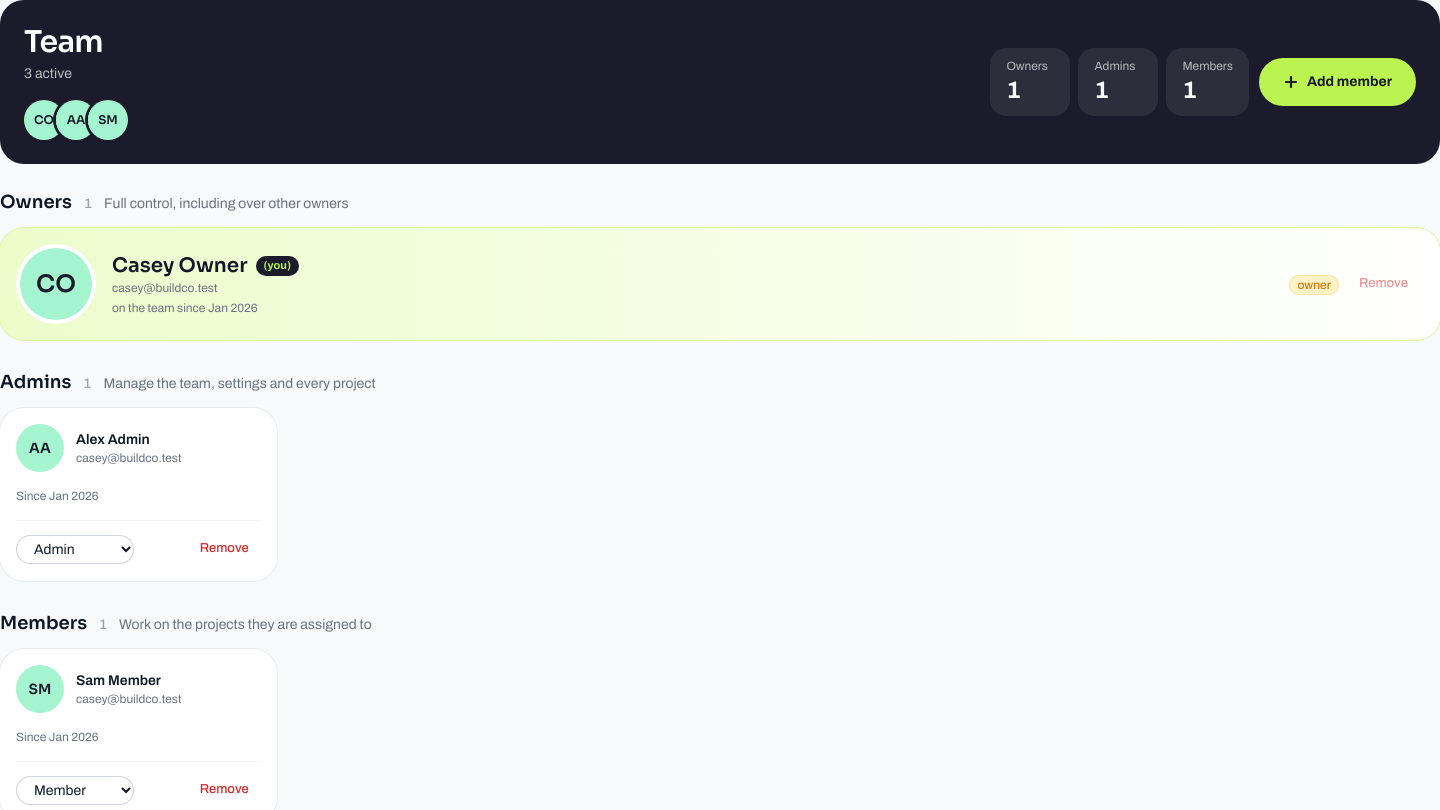
Test: TeamPage › adding a member › sends an invitation with the chosen role
Click the button "Add member" at (1338, 82), box [1259, 58, 1416, 106]
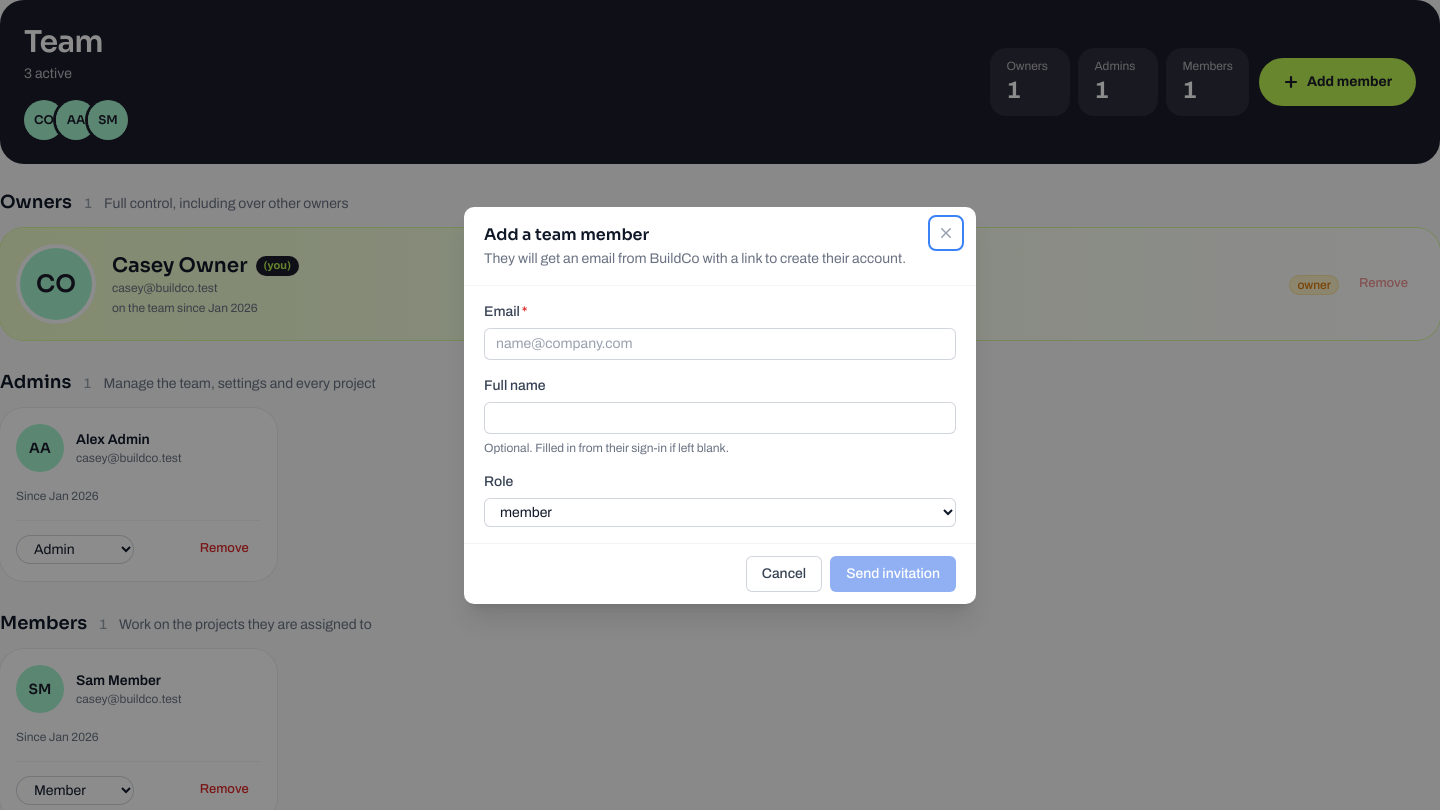
Type "  New.Hire@BuildCo.com " into the field labelled "Email*" at (720, 344), box [484, 328, 956, 360]
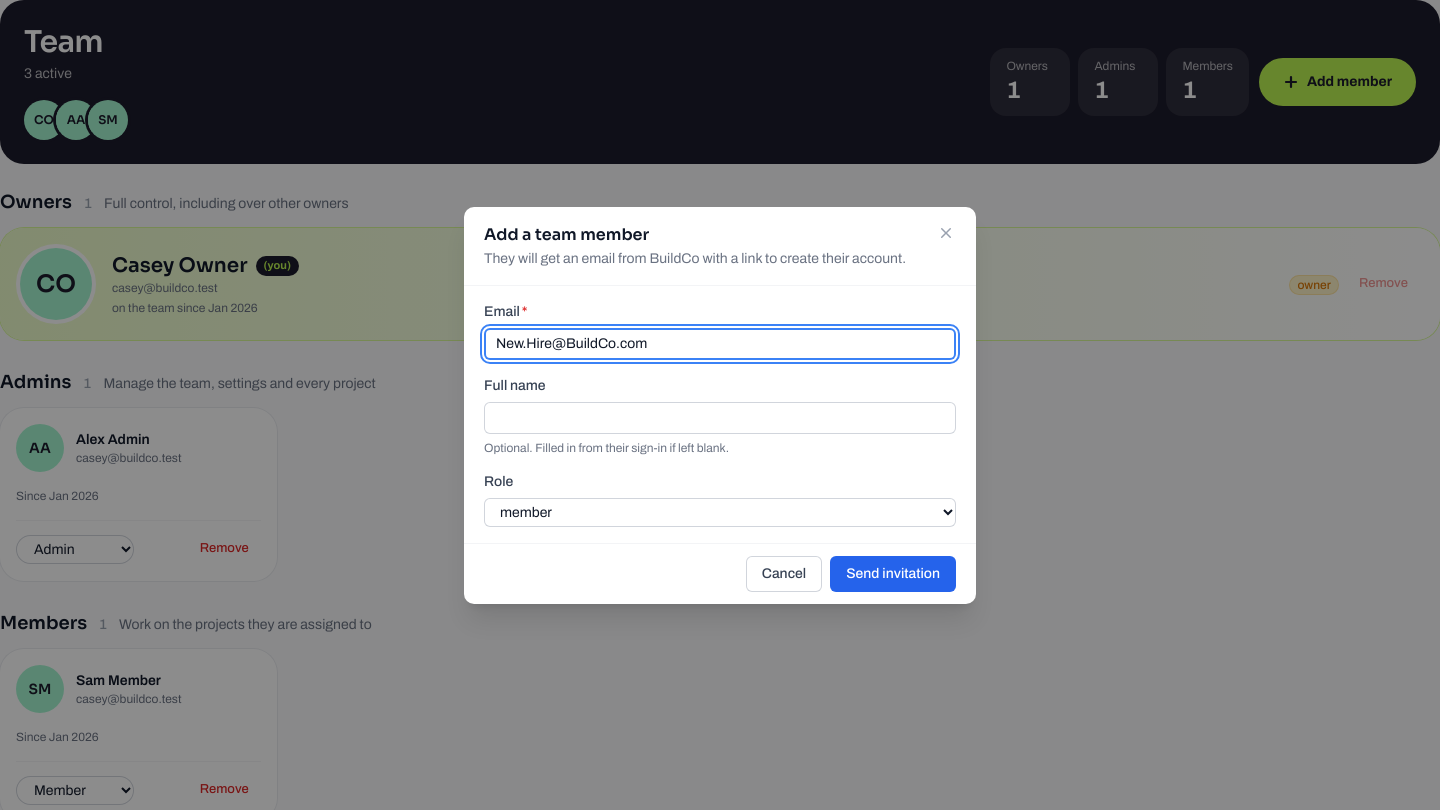
Type "Nia Hire" into the field labelled "Full name" at (720, 418), box [484, 402, 956, 434]
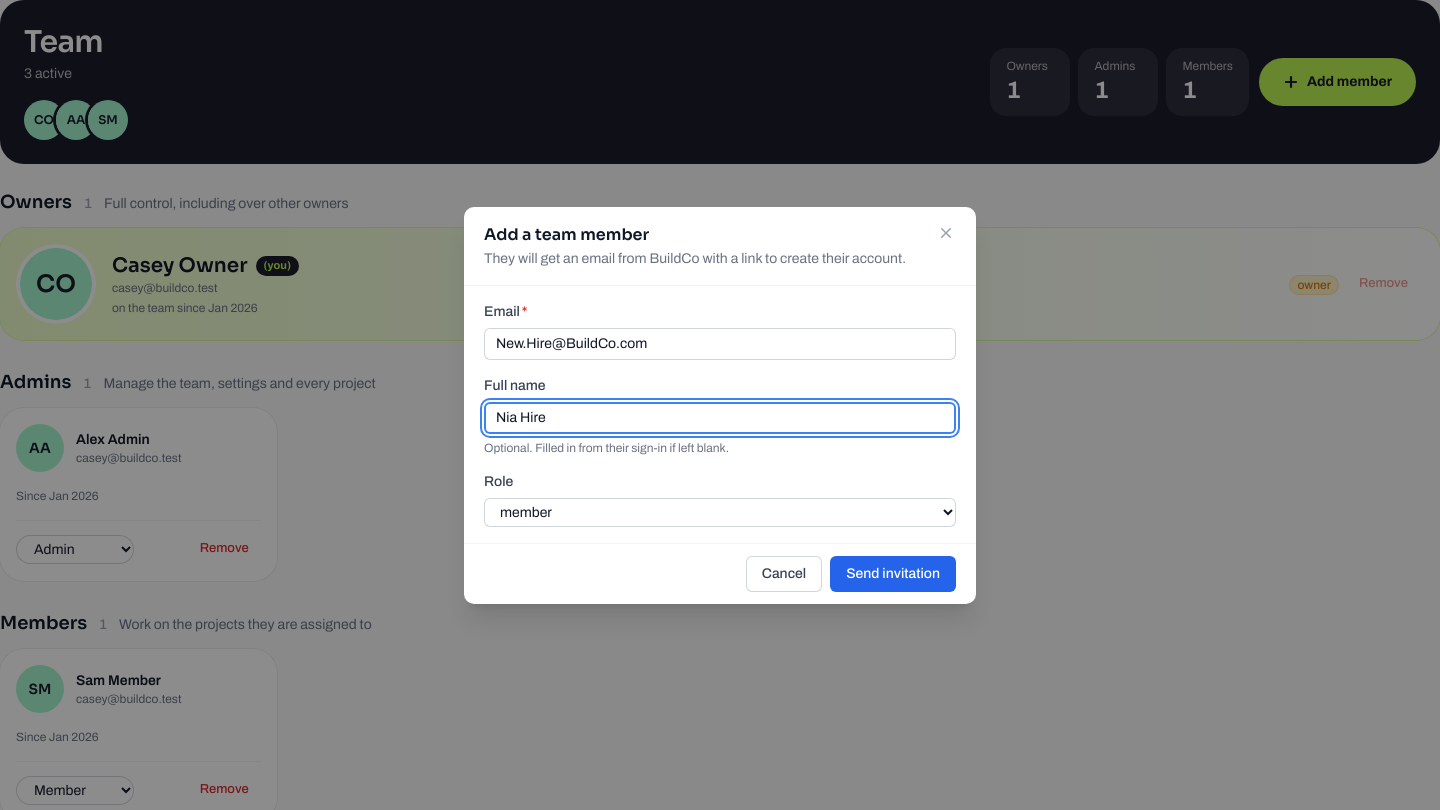
Select "admin" in the dropdown labelled "Role" at (720, 512), box [484, 498, 956, 526]
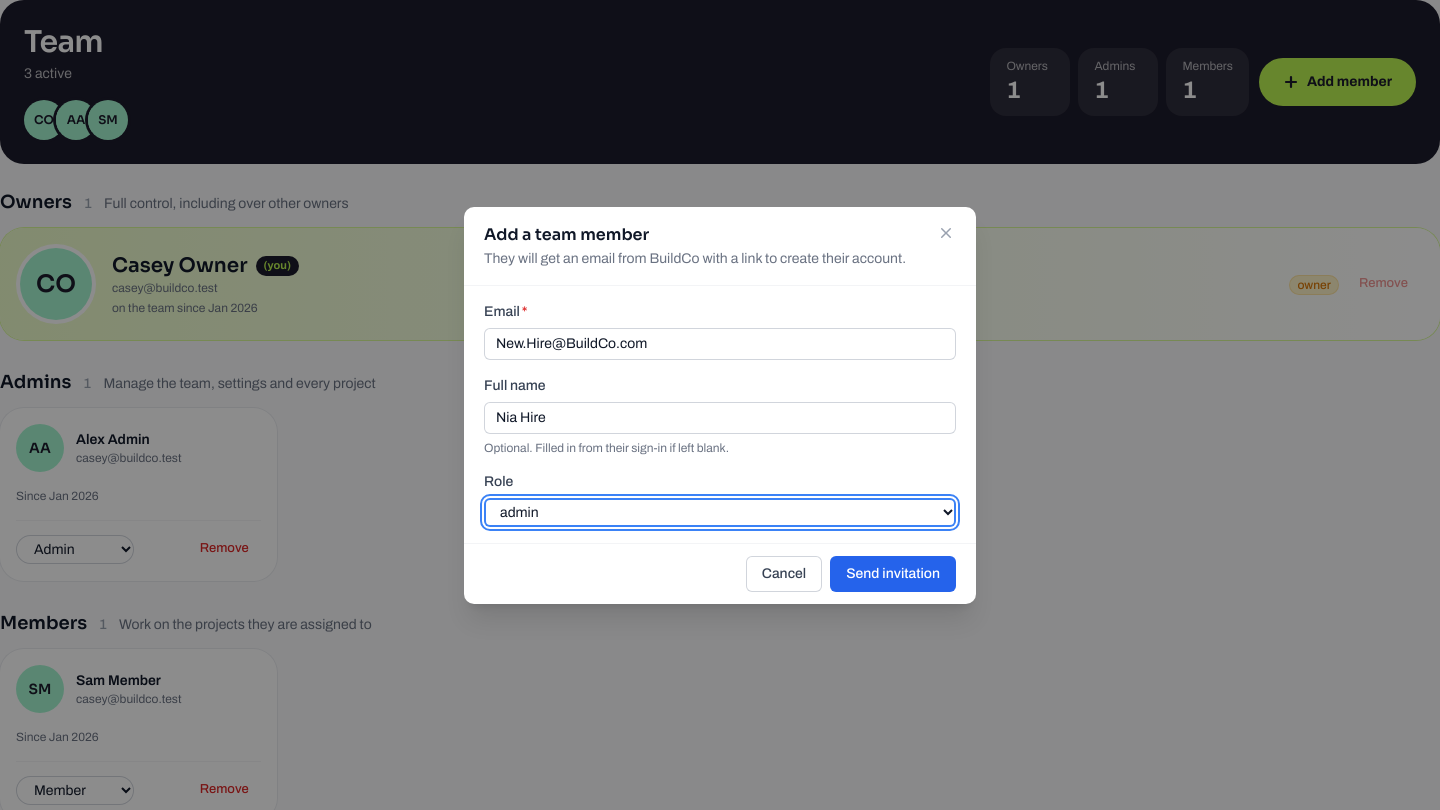
Click the button "Send invitation" at (893, 574), box [830, 556, 956, 592]
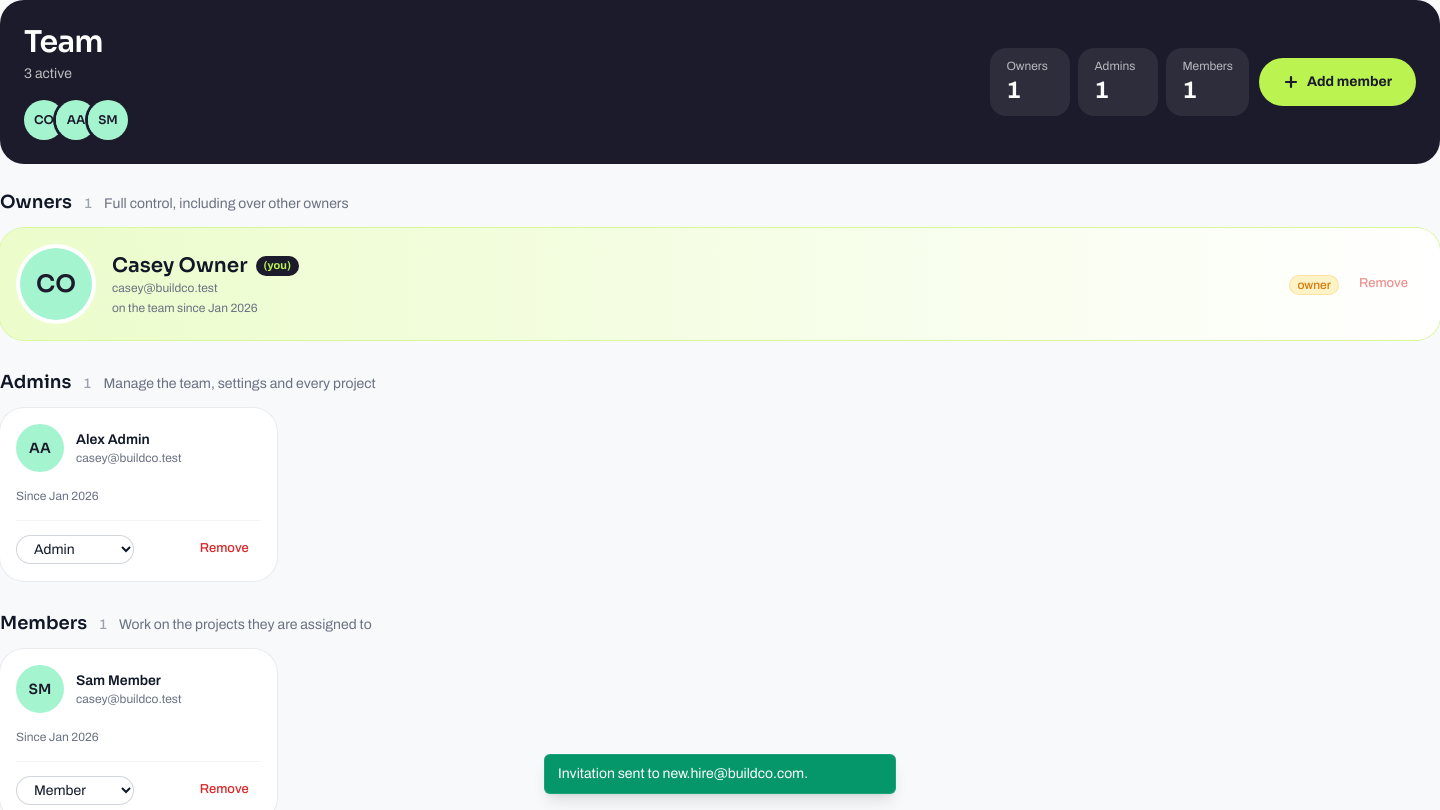
Expected: the text "Invitation sent to new.hire@buildco.com." is shown, [544, 754, 896, 794]
Expected: the button "Send invitation" is gone
